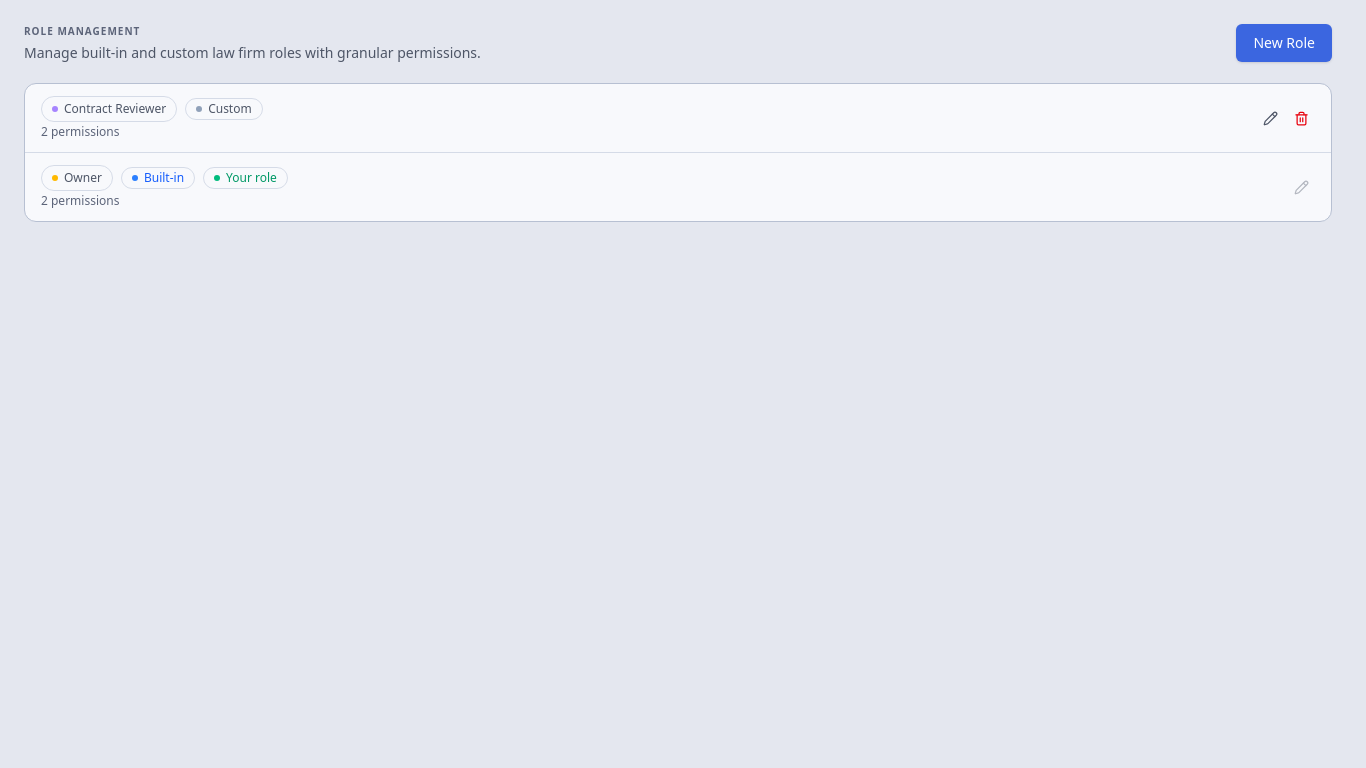
a successful representative action › deletes a custom role and reflects the removal in the list
The image size is (1366, 768).
Expected: the text "Contract Reviewer" is shown, 41,96 -> 177,122
Step 1. Click the 3rd button → (1302, 118), box 1288,104 -> 1315,132
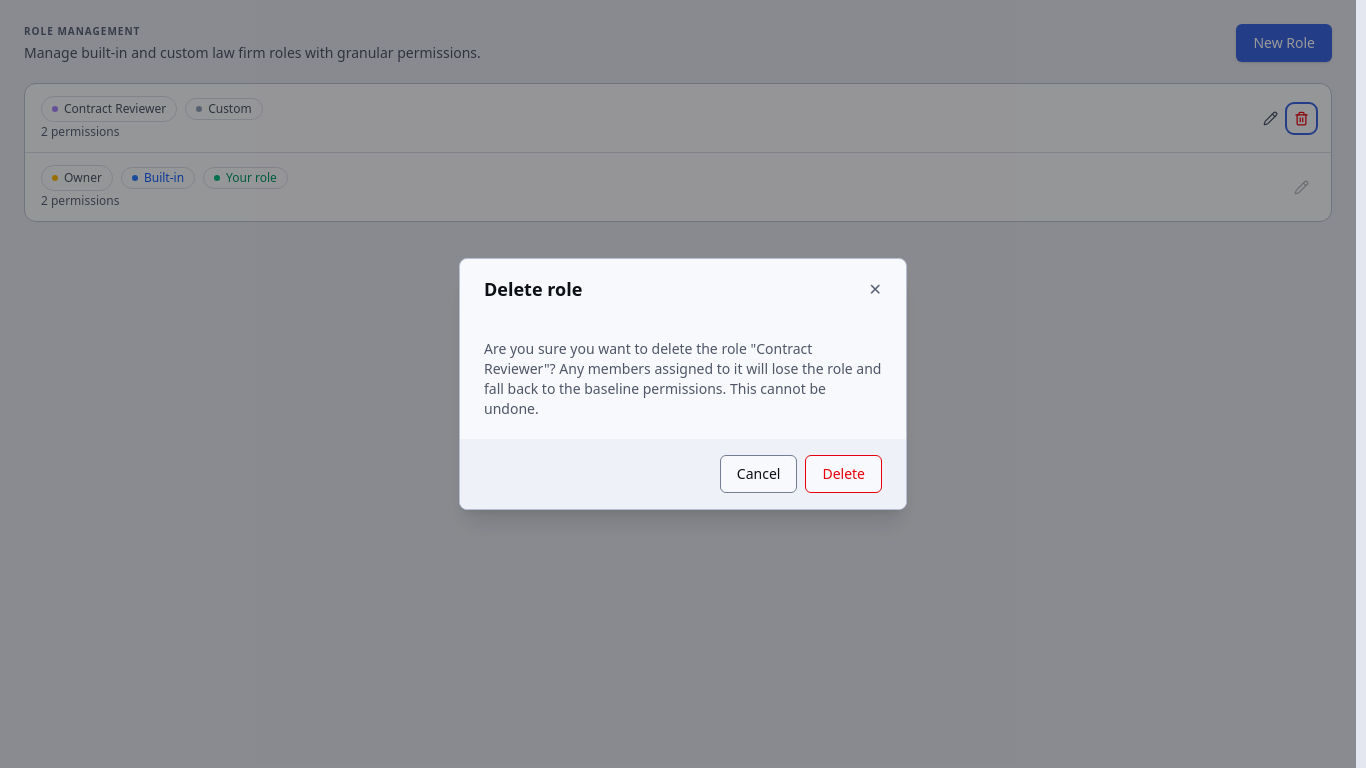
Step 2. Click the button "Delete" → (844, 474), box 805,455 -> 882,493
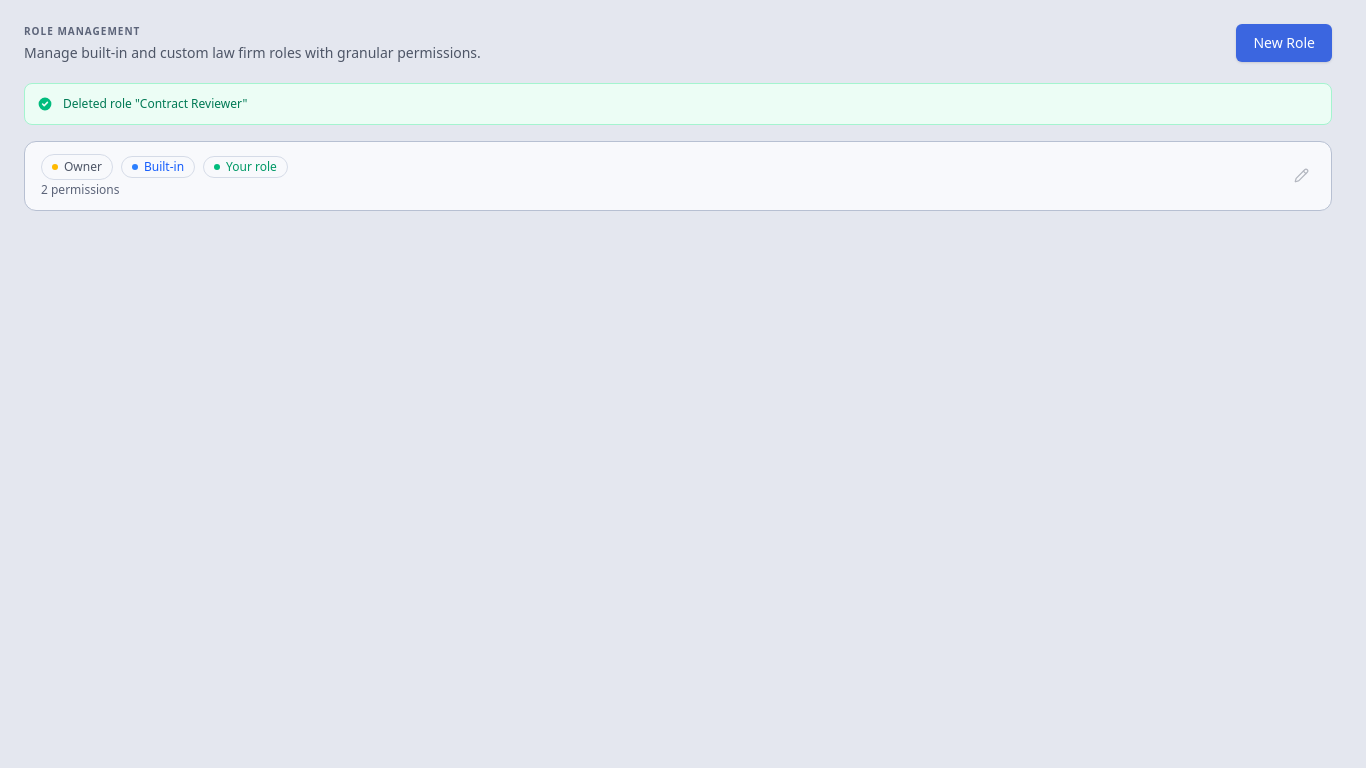
Expected: the text "Owner" is shown, 41,154 -> 113,180
Expected: the text "Deleted role \"Contract Reviewer\"" is shown, 63,95 -> 247,112
